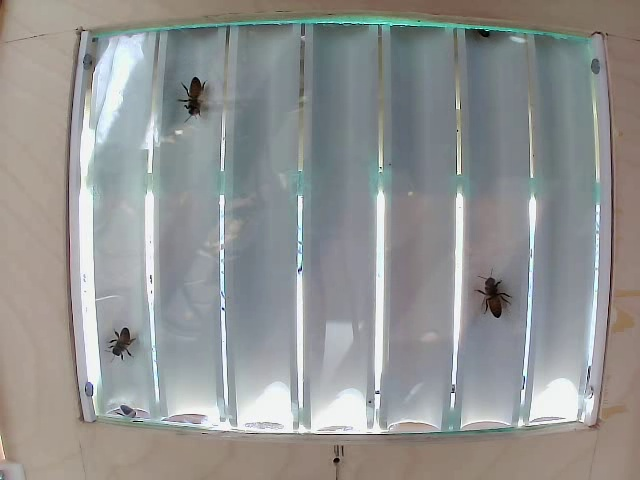bee: (189, 81, 219, 139), (486, 270, 510, 318), (111, 324, 137, 360)
